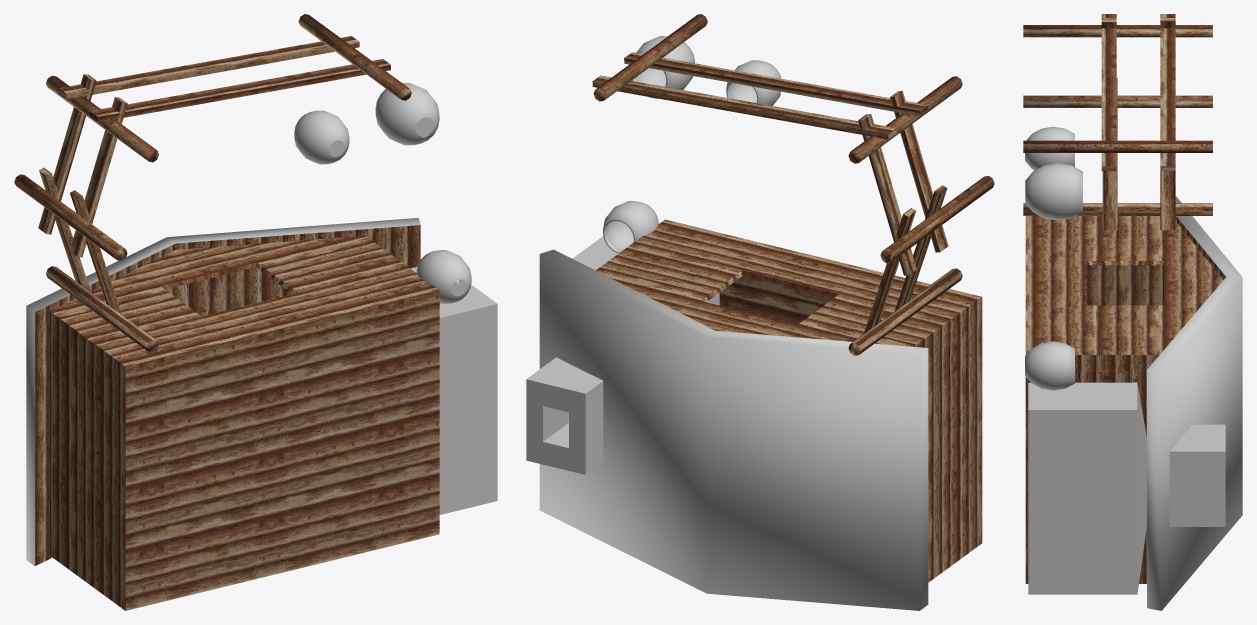
Rendered from factory.fbx.
The picture shows the model from 3 angles, left to right: view 1: azimuth 30°, elevation 25°; view 2: azimuth 150°, elevation 25°; view 3: azimuth 270°, elevation 25°; orthographic projection. The views are drawn at different scales.
Parts seen in each view (by area): view 1: Factory; view 2: Factory; view 3: Factory.
Boxes of the visible parts, x1,y1,x2,y2 form: Factory: (14, 14, 497, 610); Factory: (526, 14, 994, 610); Factory: (1023, 14, 1242, 610).
Size of the model in its own units: 10.81 by 12.44 by 5.58.
